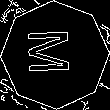M_E: (29, 31, 81, 79)
